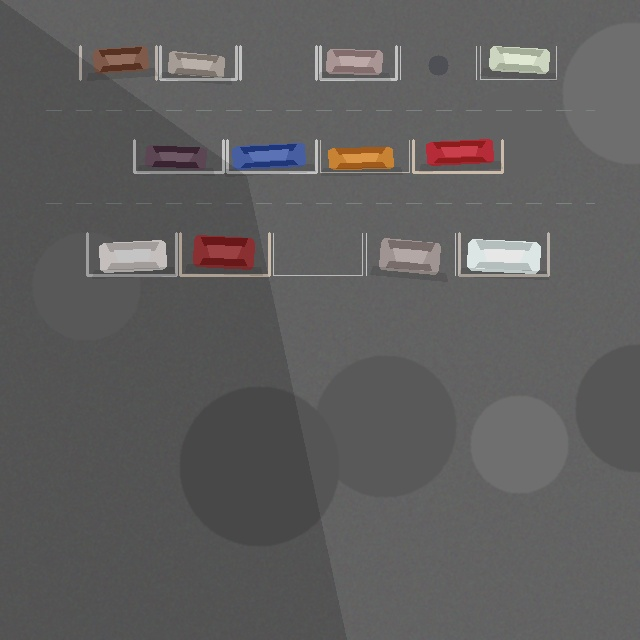space-empty: (273, 233, 362, 275), (240, 46, 316, 79), (400, 46, 476, 79)
space-occupied: (87, 233, 176, 275), (180, 233, 269, 275), (366, 233, 455, 275), (459, 233, 548, 275), (134, 140, 223, 172), (227, 140, 316, 172), (320, 140, 409, 172), (413, 140, 502, 172), (80, 46, 156, 79), (160, 46, 236, 79), (320, 46, 396, 79), (480, 46, 556, 79)
